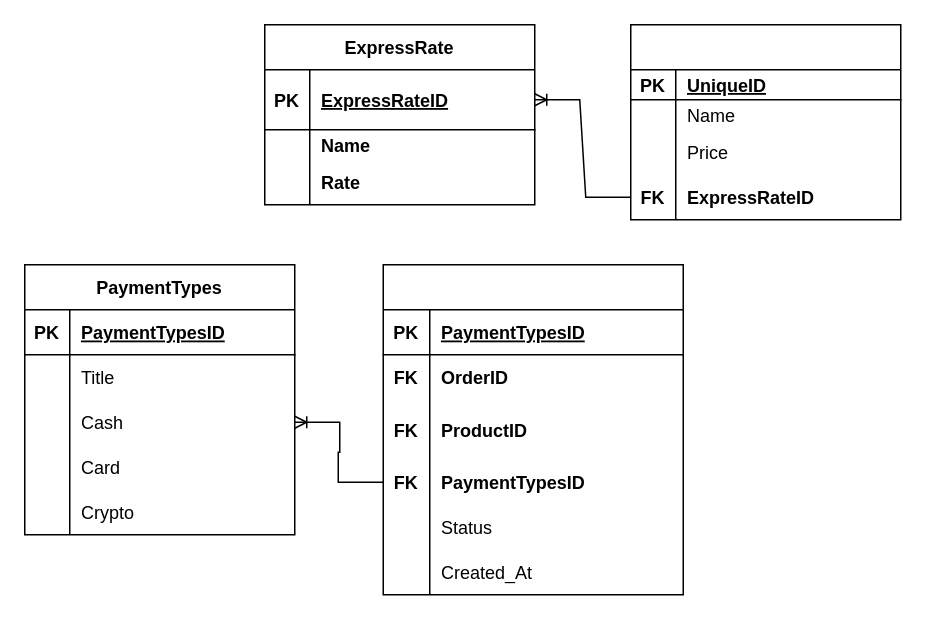
Some shapes in this 926 by 620 pixel diagram are drawn without their labels. The box of each missing label's shape, as (x1, y1, x2, y2) in pixels:
PaymentDetails: (382, 263, 683, 595)
ShipmentMethots: (629, 23, 901, 220)
